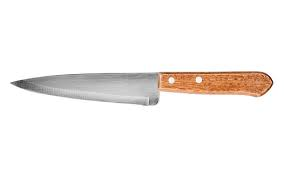knife: (9, 70, 274, 107)
